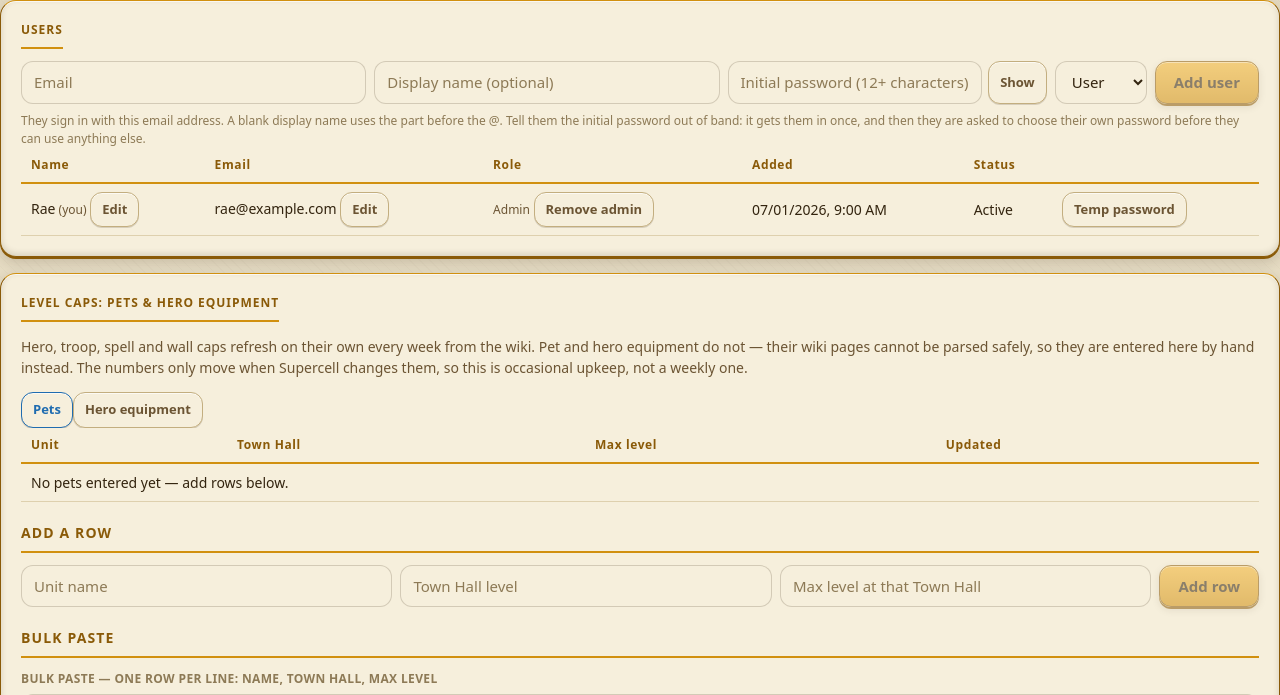
Test case: creating an account › reports a refusal at the form and keeps what was typed
The image size is (1280, 695).
Expected: the text "Rae" is shown, [31,198,56,218]
Type "nia@example.com" into the field named "New user's email".
click(194, 82); type("nia@example.com")  # box [21,61,366,104]
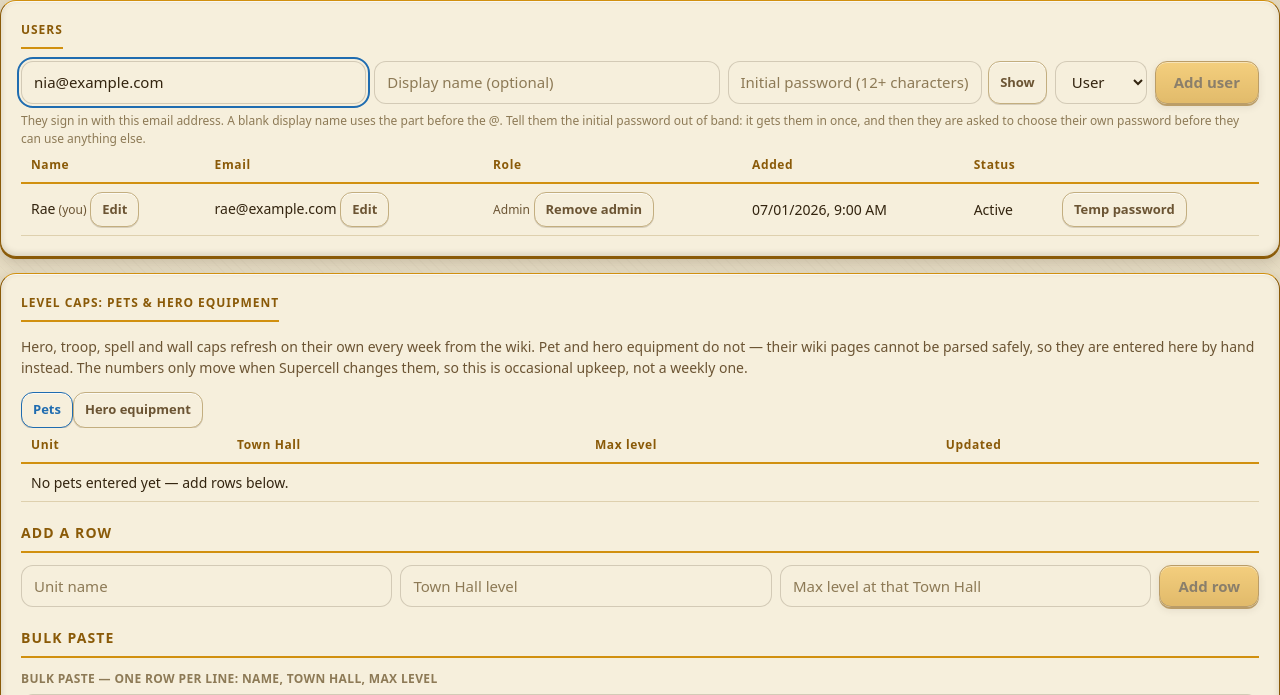
Type "correct-horse-battery" into the password field labelled "Initial password".
click(855, 82); type("correct-horse-battery")  # box [728,61,982,104]
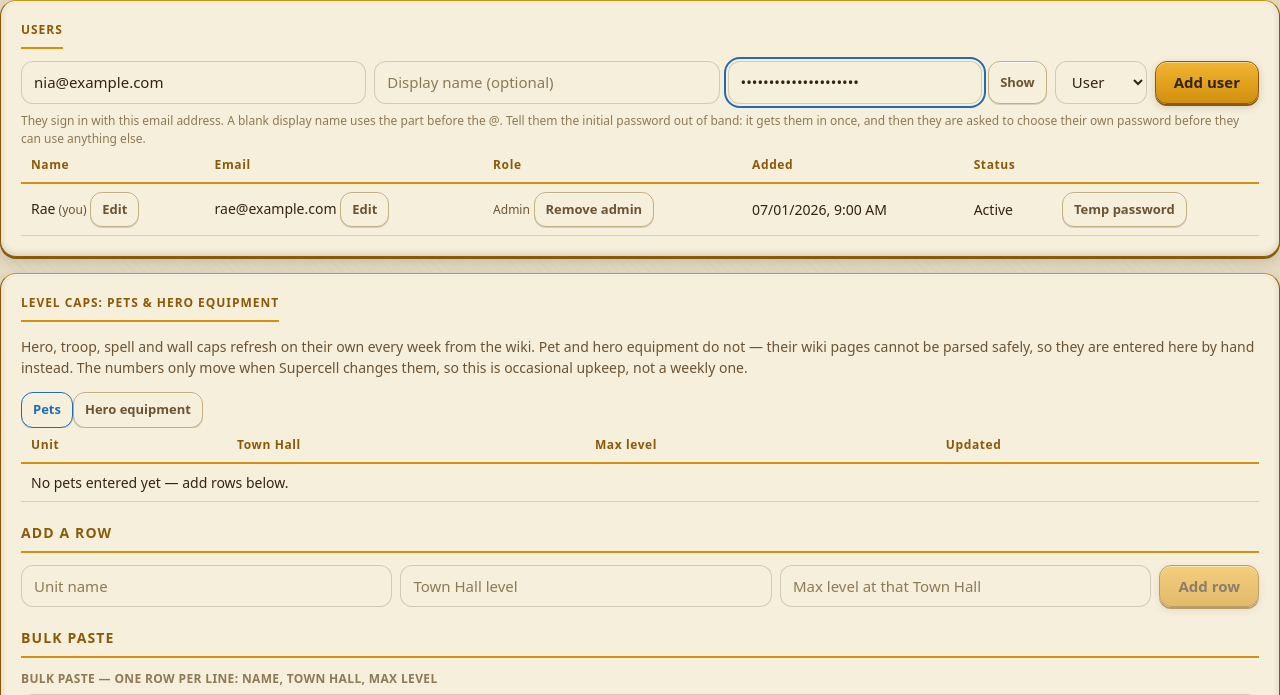
Click the button "Add user".
click(1207, 82)  # box [1155,61,1259,104]
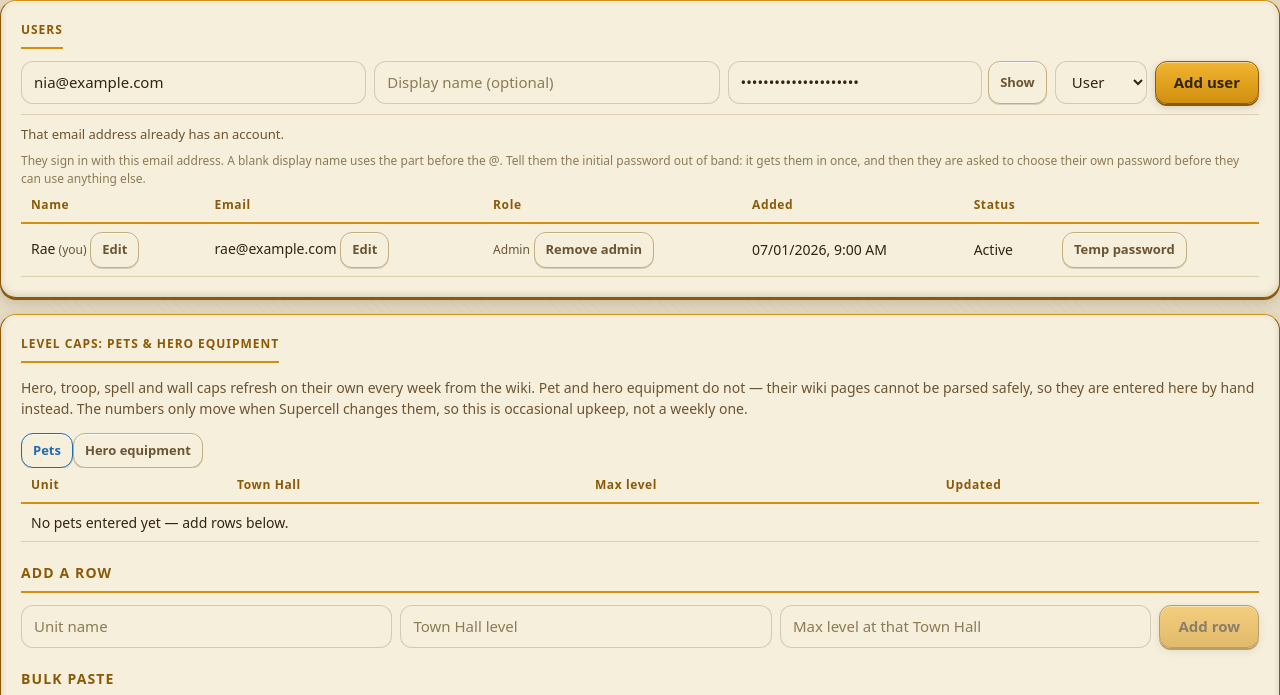
Now the text "That email address already has an account." is shown, box [21,114,1259,144]
